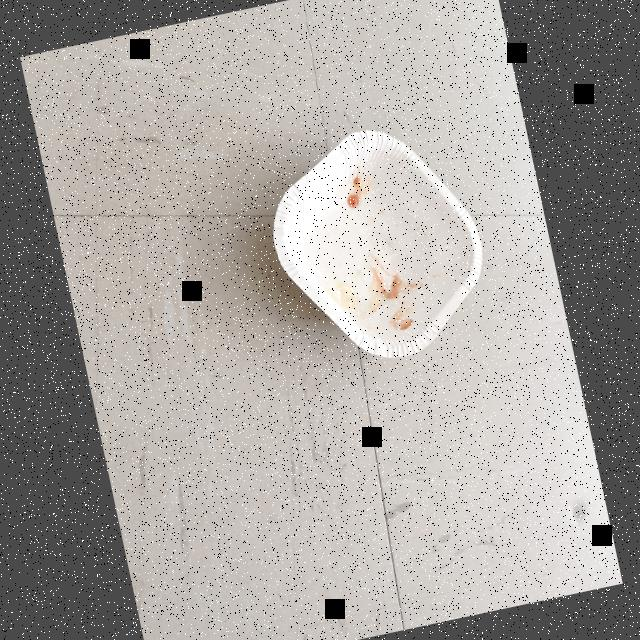cardboard_bowl: (248, 101, 507, 386)
